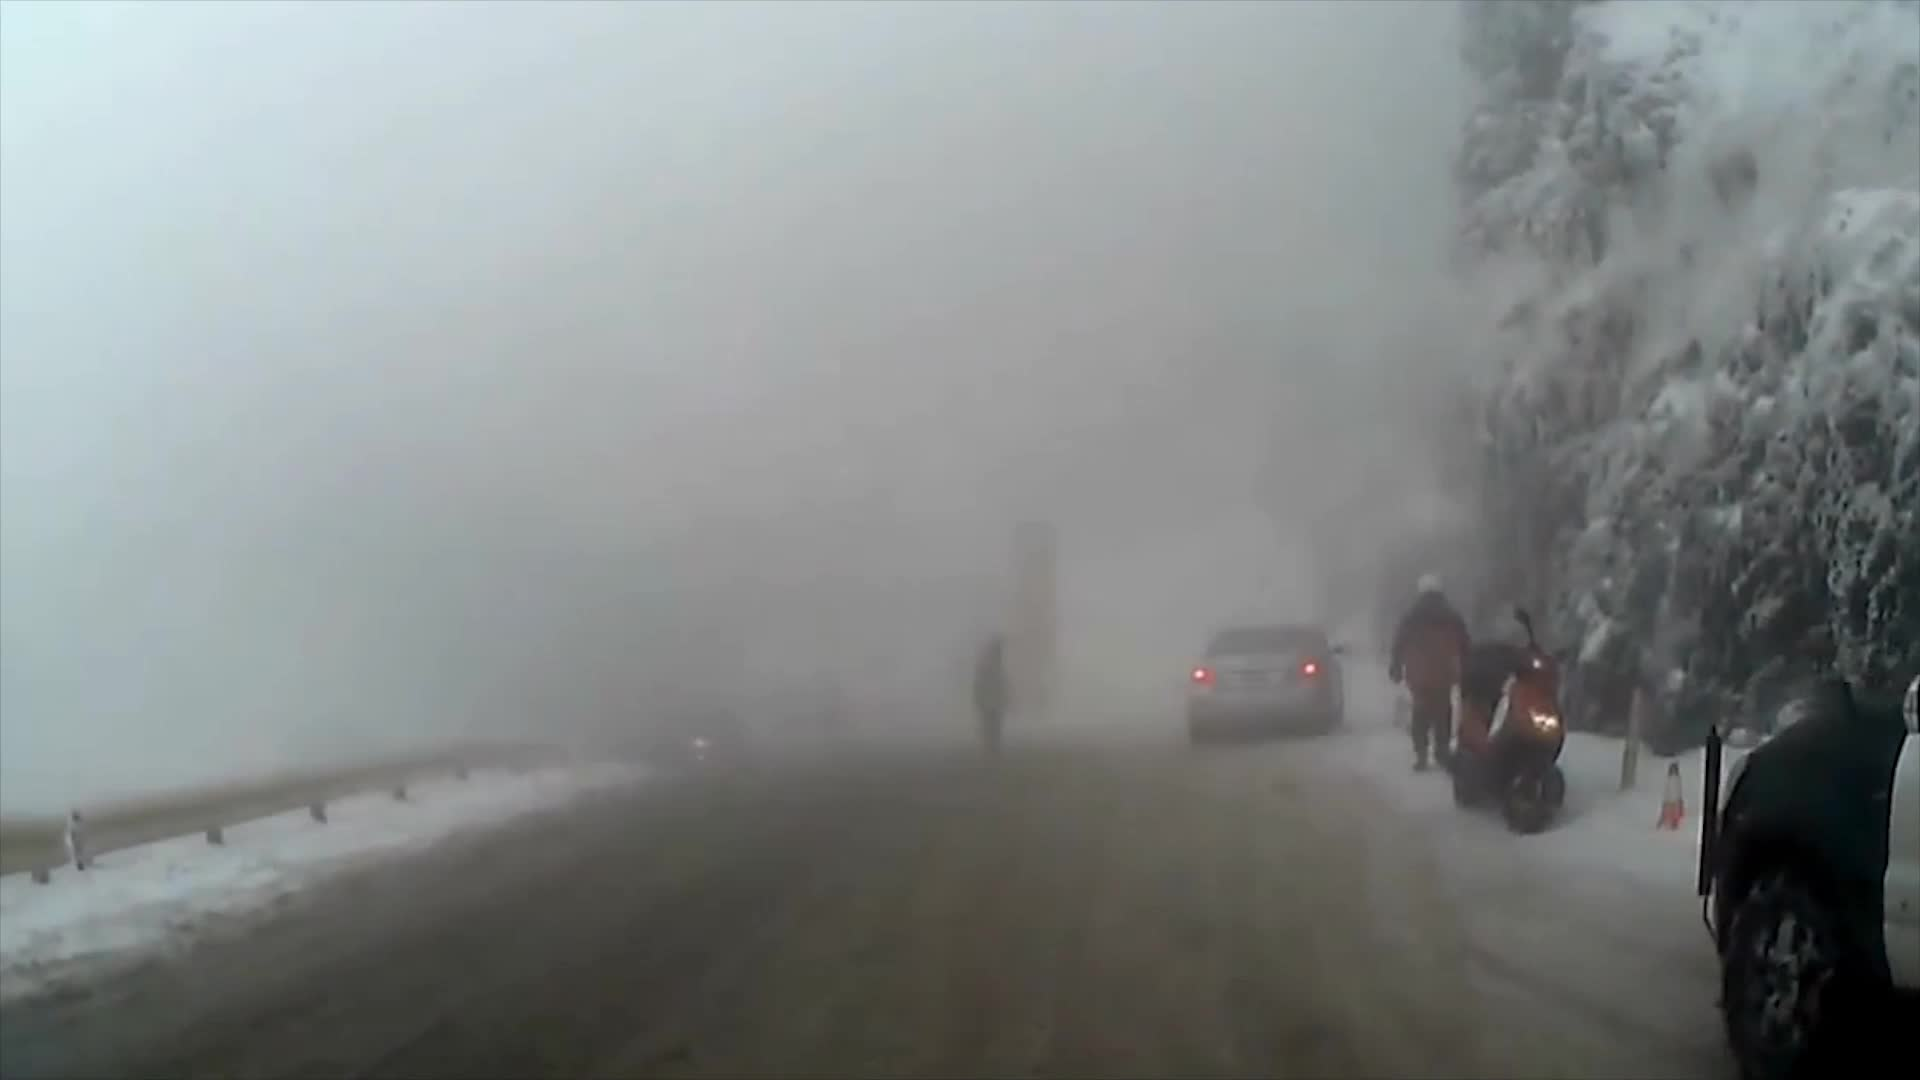pedestrian: (1385, 569, 1484, 775), (968, 635, 1008, 767)
vehicle: (1688, 590, 1918, 1080), (1179, 621, 1345, 750)
